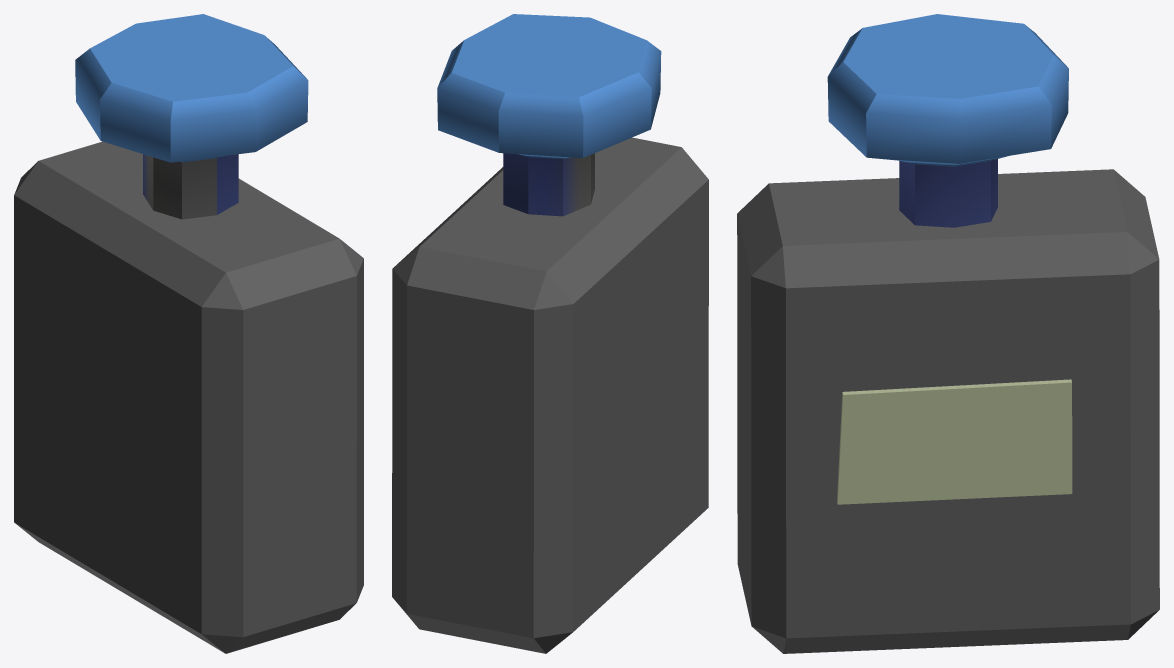
The model's file is Bedroom_2_Perfume.fbx.
3 views of the same model, side by side, from view 1: azimuth 30°, elevation 25°; view 2: azimuth 150°, elevation 25°; view 3: azimuth 270°, elevation 25° (orthographic). The views are drawn at different scales.
Visible parts, largest first — view 1: Bedroom_2_Perfume; view 2: Bedroom_2_Perfume; view 3: Bedroom_2_Perfume.
Part boxes in pixels (bbox=[...]): Bedroom_2_Perfume: bbox=[14, 14, 363, 653]; Bedroom_2_Perfume: bbox=[392, 14, 708, 653]; Bedroom_2_Perfume: bbox=[737, 14, 1159, 653].
Size of the model in its own units: 9.29 by 23.18 by 15.89.
